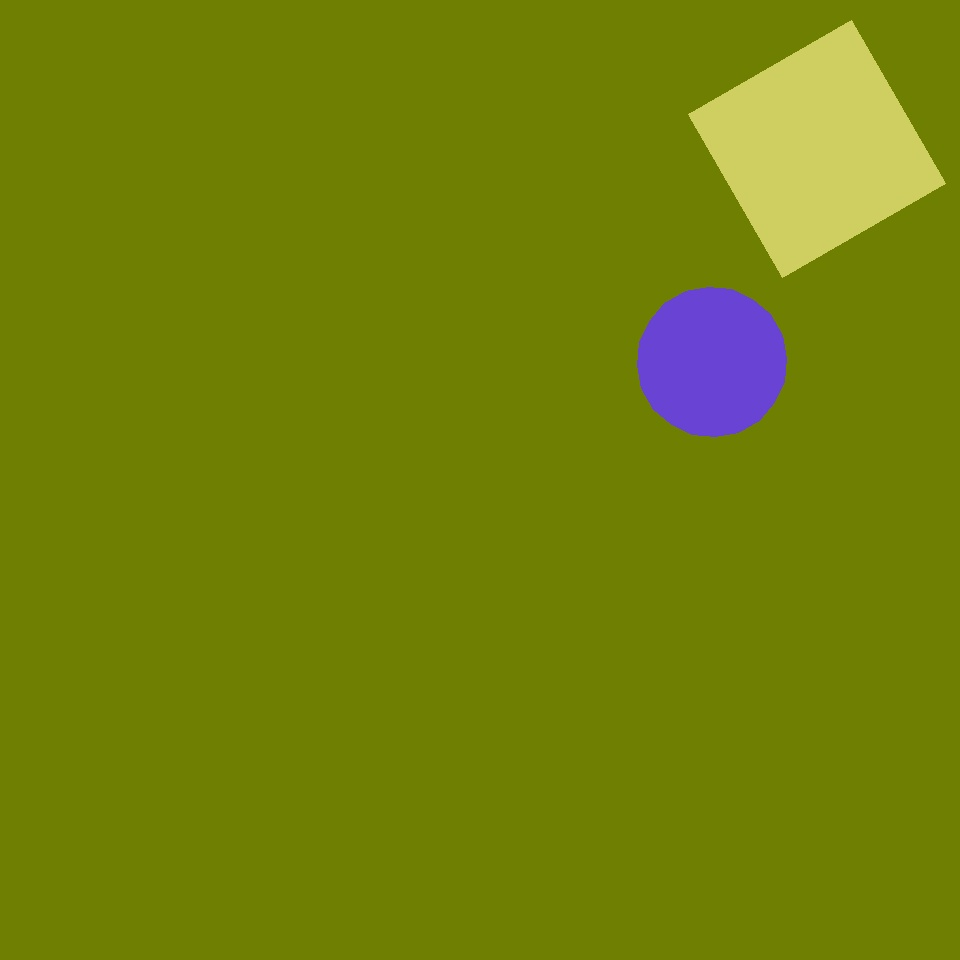circle: (373, 593, 640, 858)
square: (689, 21, 946, 278)
triangle: (483, 239, 715, 471), (638, 287, 786, 436)
